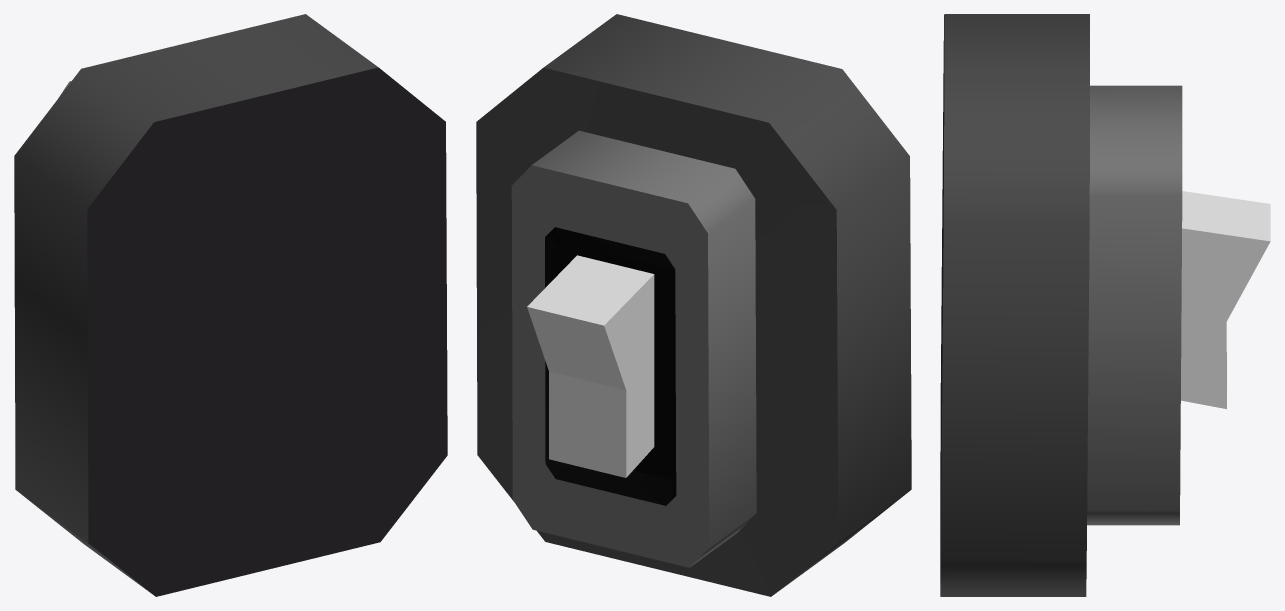
Rendered from Light Switch.fbx.
The picture shows the model from 3 angles, left to right: view 1: azimuth 30°, elevation 25°; view 2: azimuth 150°, elevation 25°; view 3: azimuth 270°, elevation 25°; orthographic projection.
Visible parts, largest first — view 1: Light Switch; view 2: Light Switch; view 3: Light Switch.
Boxes of the visible parts, box(x1,y1,x2,y2) form: Light Switch: box(14, 14, 447, 596); Light Switch: box(476, 14, 911, 596); Light Switch: box(940, 14, 1270, 596).
Bounding box in the file's own units: 0.2229 × 0.2807 × 0.1775.
